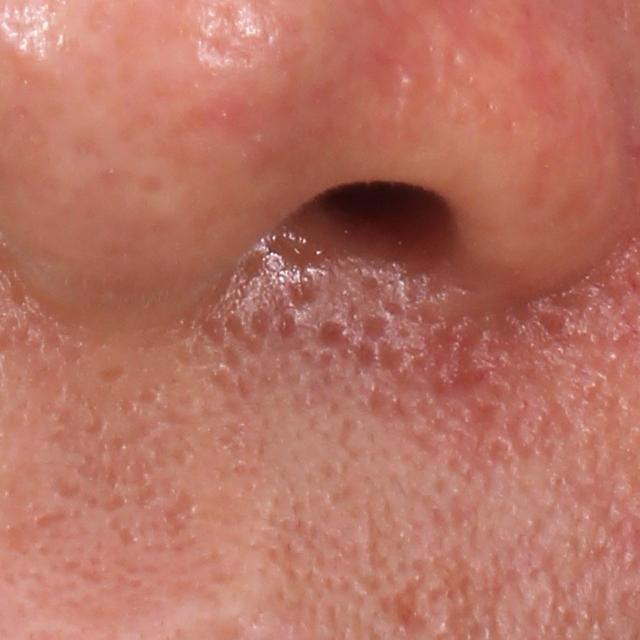atrophic_scar: (40, 395, 160, 507), (409, 319, 489, 401), (381, 553, 436, 639), (162, 484, 199, 533), (363, 506, 388, 575), (309, 316, 350, 355), (46, 475, 86, 503)
